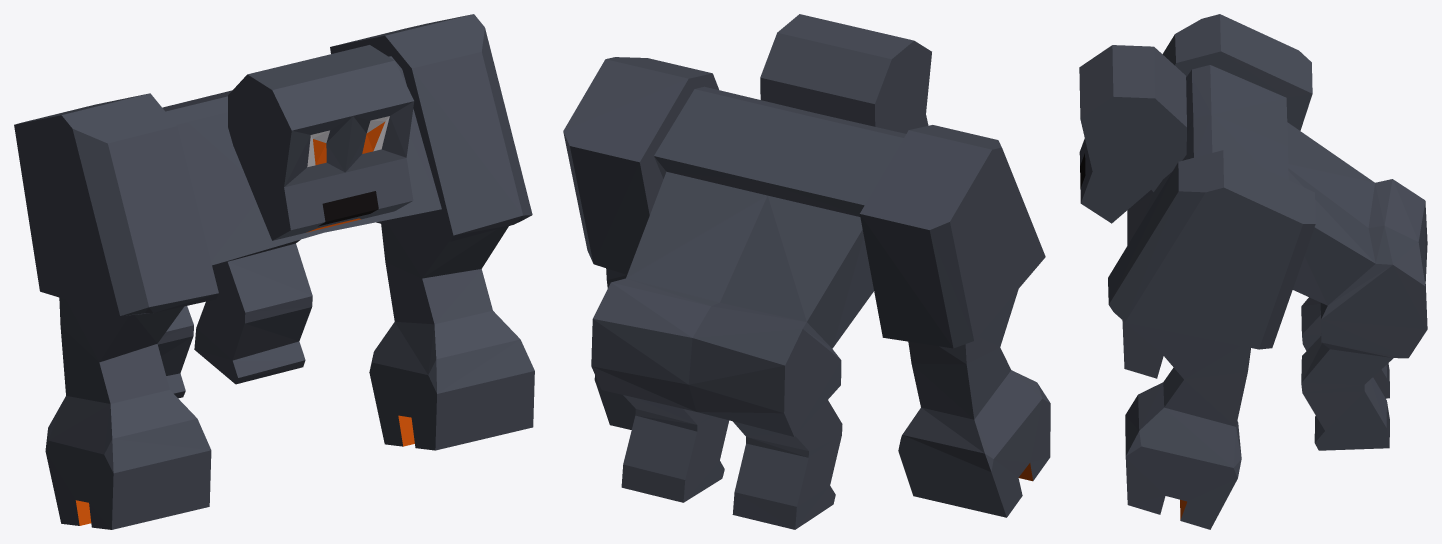
The model's file is kong_000013.obj.
3 views of the same model, side by side, from view 1: azimuth 30°, elevation 25°; view 2: azimuth 150°, elevation 25°; view 3: azimuth 270°, elevation 25° (orthographic). The views are drawn at different scales.
Visible parts, largest first — view 1: Cube; view 2: Cube; view 3: Cube.
Part boxes in pixels (box(x1,y1,x2,y2)): Cube: box(14, 14, 534, 529); Cube: box(563, 14, 1050, 529); Cube: box(1079, 14, 1427, 529).
Size of the model in its own units: 5.85 by 5.75 by 4.87.
Materials: 1 (1 with a texture image).
